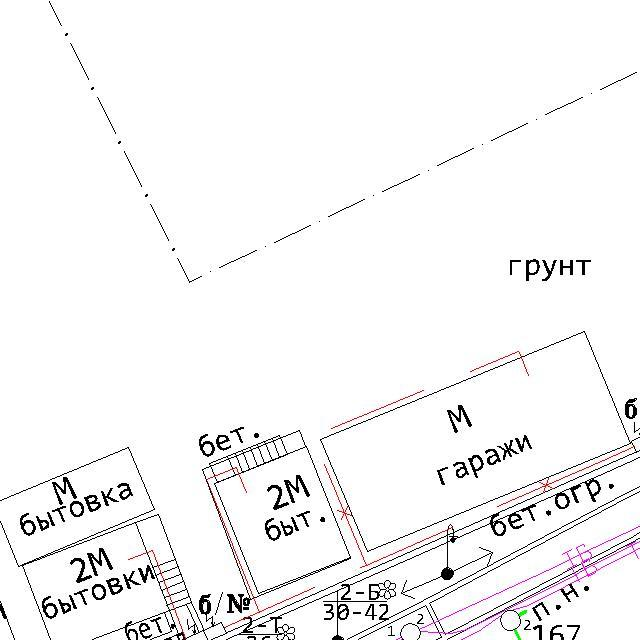bushes: (377, 578, 398, 601), (275, 622, 296, 640)
well: (498, 607, 524, 634)
